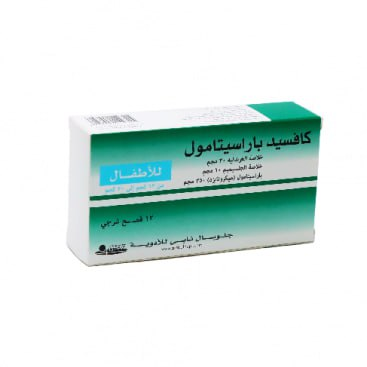Medicine: (67, 98, 327, 277)
